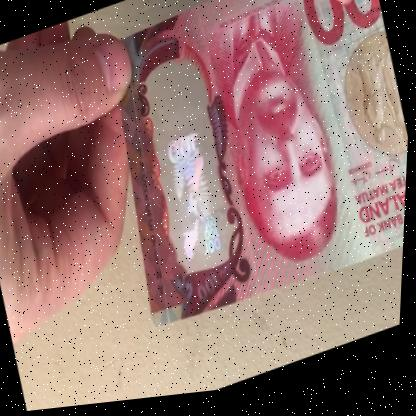100F: (141, 76, 237, 280)
